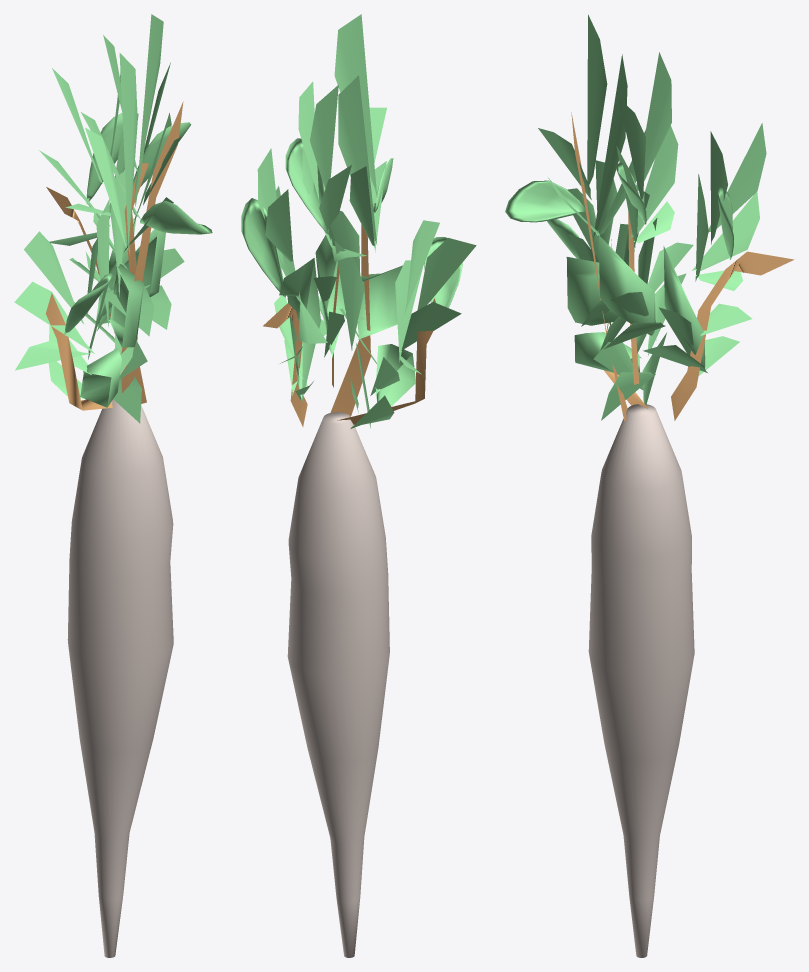
File: radish.fbx
3 renders of one model, left to right at view 1: azimuth 30°, elevation 25°; view 2: azimuth 150°, elevation 25°; view 3: azimuth 270°, elevation 25°, orthographic. The views are drawn at different scales.
Visible parts, largest first — view 1: Plane.013; view 2: Plane.013; view 3: Plane.013.
Boxes of the visible parts, x1,y1,x2,y2 form: Plane.013: (14,14,212,957); Plane.013: (241,14,476,957); Plane.013: (505,14,794,957).
Bounding box in the file's own units: 64.85 × 327 × 90.59.
